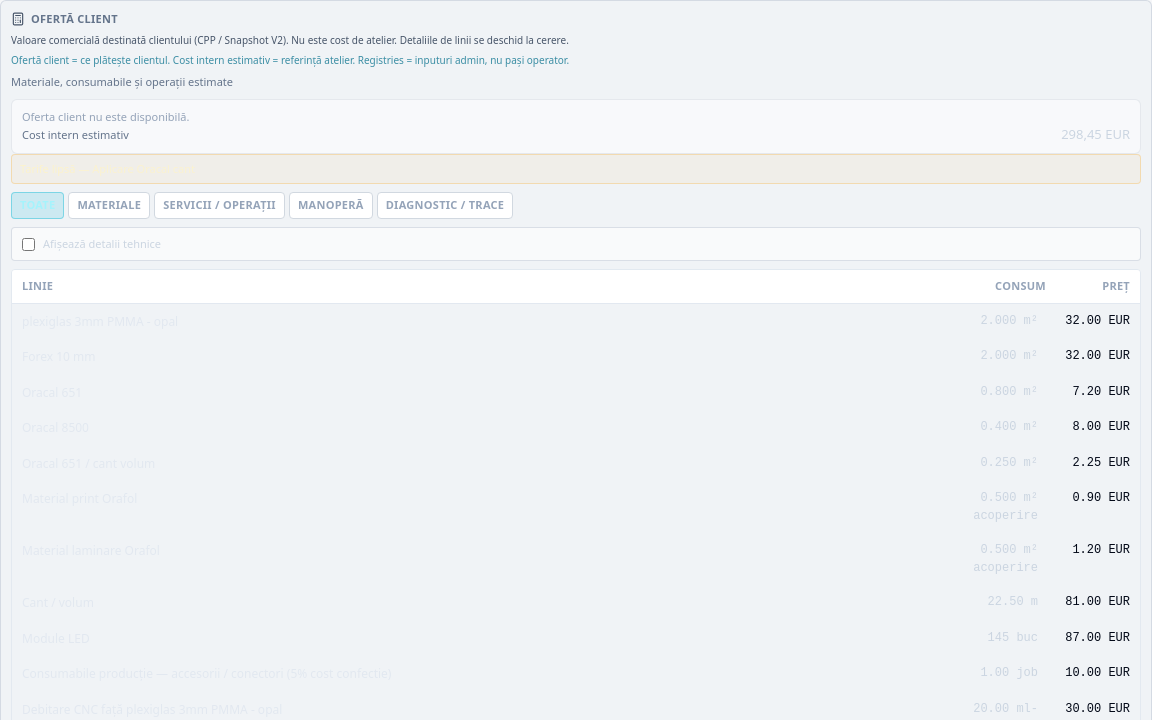
Test: IntakeV6LiveCalculationSummary › filters line rows by category chip
This screenshot has width=1152, height=720.
Expected: the element with test id "intake-v6-live-calc-filters" is shown, [11,192,513,219]
Click the button with test id "intake-v6-live-filter-services_operations" at coordinates (220, 206), box [154,192,285,219]
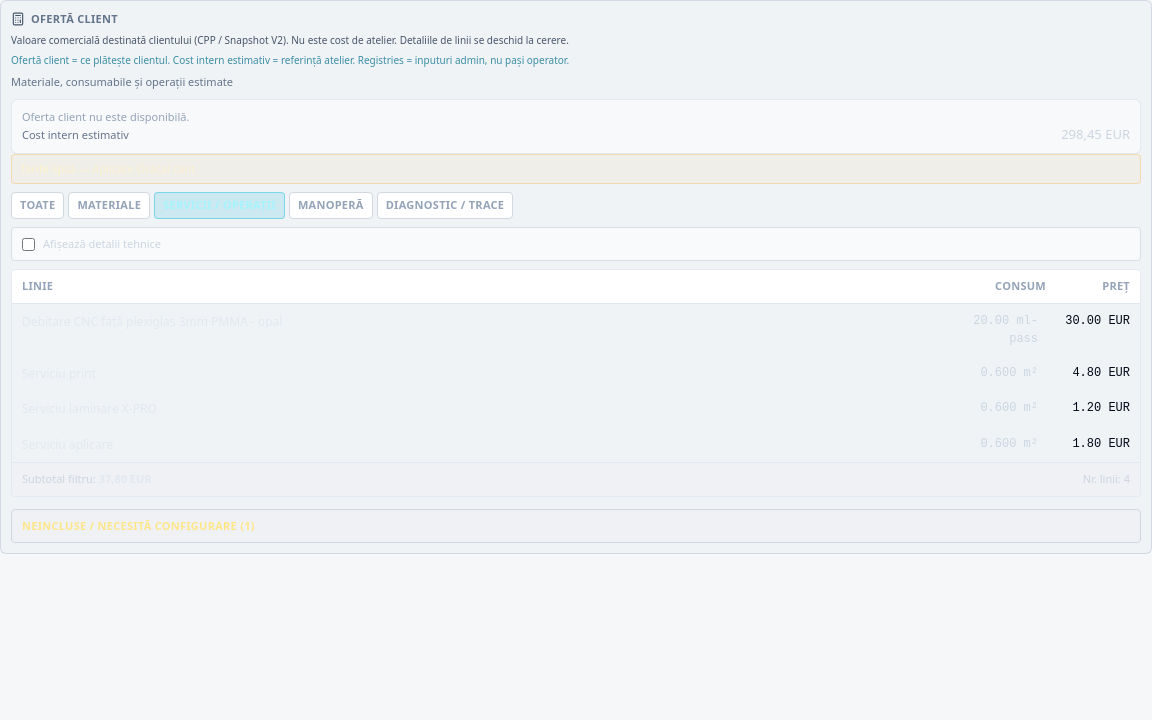
Expected: the element with test id "intake-v6-live-material-used-cnc_face" is shown, [12,304,1140,356]
Expected: the element with test id "intake-v6-live-material-used-plexi" is gone
Click the button with test id "intake-v6-live-filter-all" at coordinates (38, 206), box [11,192,64,219]
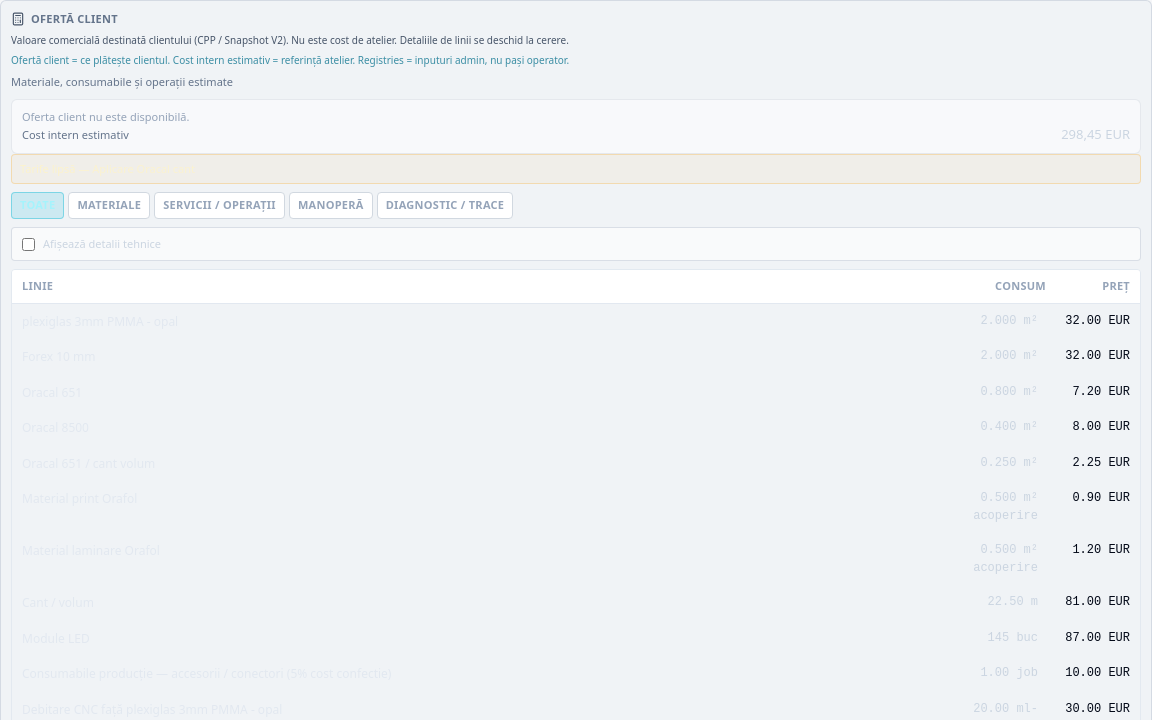
Expected: the element with test id "intake-v6-live-material-used-plexi" is shown, [22,313,1130,330]
